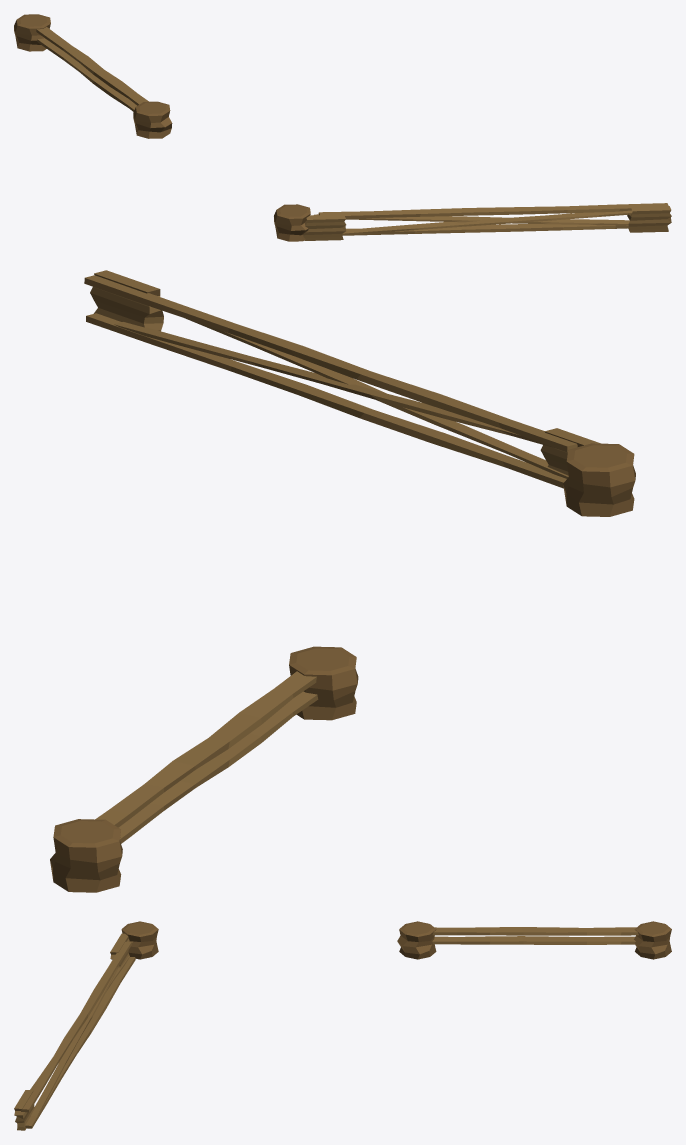
Rendered from hitching_post.glb.
3 renders of one model, top to bottom at view 1: azimuth 30°, elevation 25°; view 2: azimuth 150°, elevation 25°; view 3: azimuth 270°, elevation 25°, orthographic. The views are drawn at different scales.
Visible parts, largest first — view 1: Cube.113, Cube.114; view 2: Cube.114, Cube.113; view 3: Cube.114, Cube.113.
Boxes of the visible parts, <box> form: Cube.113: <box>303,203,671,240</box>; Cube.114: <box>14,14,310,241</box>; Cube.114: <box>50,443,635,892</box>; Cube.113: <box>84,270,600,488</box>; Cube.114: <box>121,921,671,959</box>; Cube.113: <box>14,933,135,1130</box>.
Size of the model in its own units: 30.84 by 4.52 by 53.01.
